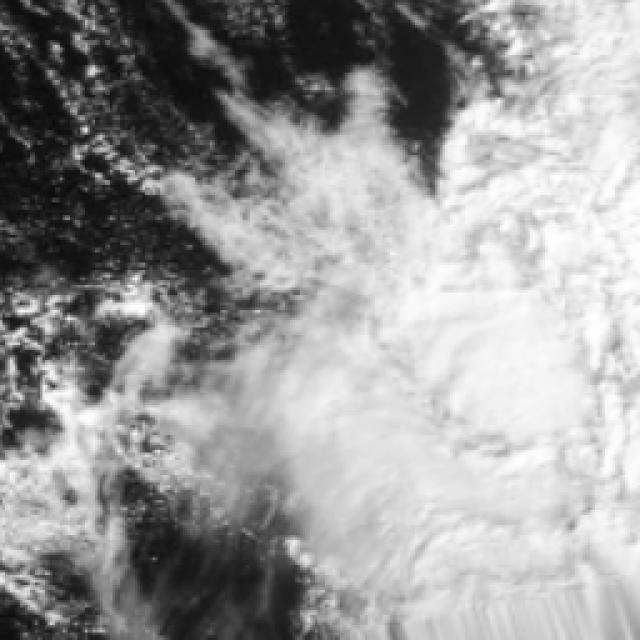CB: (347, 217, 589, 375), (459, 436, 640, 582), (430, 270, 593, 432), (522, 125, 640, 320), (551, 5, 640, 143)
